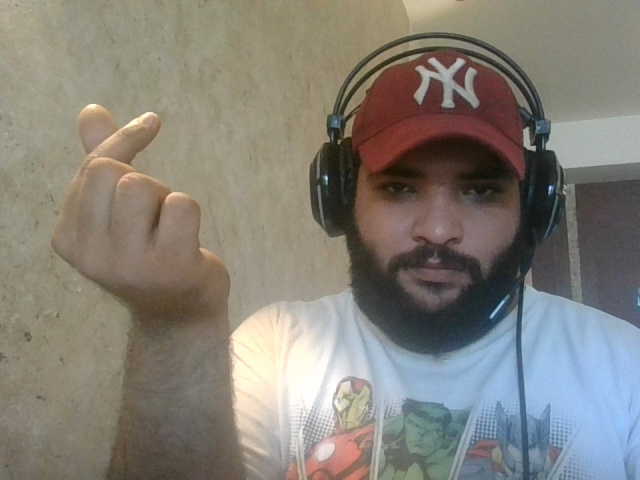iloveyou: (49, 102, 257, 315)
